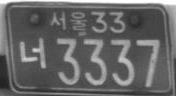3: (81, 37, 108, 86), (55, 36, 81, 85), (110, 38, 135, 87), (89, 9, 108, 34), (108, 10, 126, 34)
7: (135, 38, 161, 88)
너: (17, 36, 47, 70)
서울_O: (49, 9, 88, 32)
